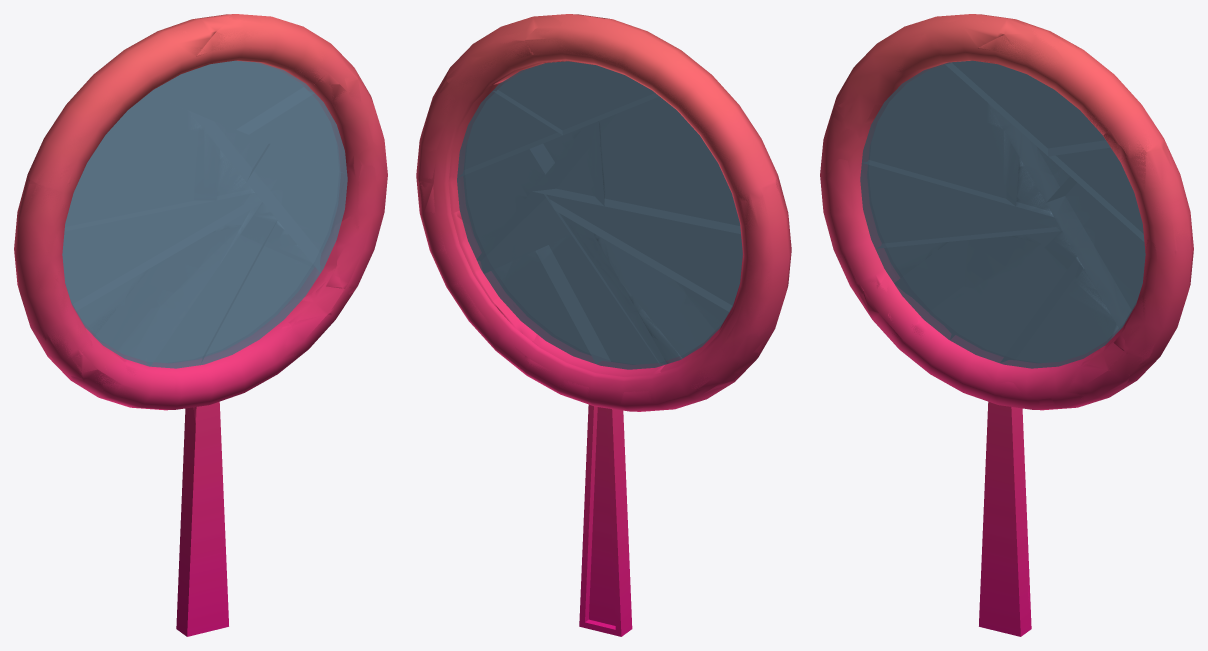
Rendered from Circle_Obstacle.fbx.
The picture shows the model from 3 angles, left to right: view 1: azimuth 30°, elevation 25°; view 2: azimuth 150°, elevation 25°; view 3: azimuth 330°, elevation 25°; orthographic projection.
Visible parts, largest first — view 1: Glass_Circ_Obs, Frame_Circ_Obs, Glass_Sha4, Glass_Sha5, Glass_Sha13, shard6, Glass_Sha3, Glass_Sha7, Glass_Sha9, Glass_Sha10, shard13, shard17 (+12 smaller); view 2: Glass_Circ_Obs, Frame_Circ_Obs, Glass_Sha4, shard6, Glass_Sha5, Glass_Sha7, Glass_Sha10, Glass_Sha6, Glass_Sha3, Glass_Sha9, Glass_Sha2, shard14 (+13 smaller); view 3: Glass_Circ_Obs, Frame_Circ_Obs, Glass_Sha4, Glass_Sha5, Glass_Sha13, Glass_Sha3, Glass_Sha7, Glass_Sha9, Glass_Sha10, shard7, shard6, shard13 (+10 smaller).
Boxes of the visible parts, <box> form: Glass_Circ_Obs: <box>62,61,347,368</box>; Frame_Circ_Obs: <box>14,14,387,636</box>; Glass_Sha4: <box>65,94,219,230</box>; Glass_Sha5: <box>62,193,261,310</box>; Glass_Sha13: <box>95,225,241,366</box>; shard6: <box>25,14,232,183</box>; Glass_Sha3: <box>247,144,347,272</box>; Glass_Sha7: <box>148,60,313,134</box>; Glass_Sha9: <box>200,221,319,364</box>; Glass_Sha10: <box>151,202,277,368</box>; shard13: <box>71,313,332,409</box>; shard17: <box>176,463,224,634</box>; Glass_Circ_Obs: <box>457,61,742,369</box>; Frame_Circ_Obs: <box>416,14,791,636</box>; Glass_Sha4: <box>598,96,740,233</box>; shard6: <box>525,15,776,202</box>; Glass_Sha5: <box>544,194,742,311</box>; Glass_Sha7: <box>493,61,658,134</box>; Glass_Sha10: <box>536,235,659,369</box>; Glass_Sha6: <box>593,233,728,358</box>; Glass_Sha3: <box>457,149,544,259</box>; Glass_Sha9: <box>484,251,595,363</box>; Glass_Sha2: <box>457,91,562,177</box>; shard14: <box>721,173,787,351</box>; Glass_Circ_Obs: <box>860,60,1145,368</box>; Frame_Circ_Obs: <box>820,14,1193,636</box>; Glass_Sha4: <box>862,64,1019,205</box>; Glass_Sha5: <box>860,163,1061,248</box>; Glass_Sha13: <box>894,236,1040,339</box>; Glass_Sha3: <box>1046,176,1145,329</box>; Glass_Sha7: <box>945,60,1109,156</box>; Glass_Sha9: <box>1000,257,1119,368</box>; Glass_Sha10: <box>950,230,1076,362</box>; shard7: <box>978,33,1164,151</box>; shard6: <box>835,14,1073,118</box>; shard13: <box>867,309,1130,410</box>.
Bounding box in the file's own units: 51.14 × 80.47 × 6.09.
